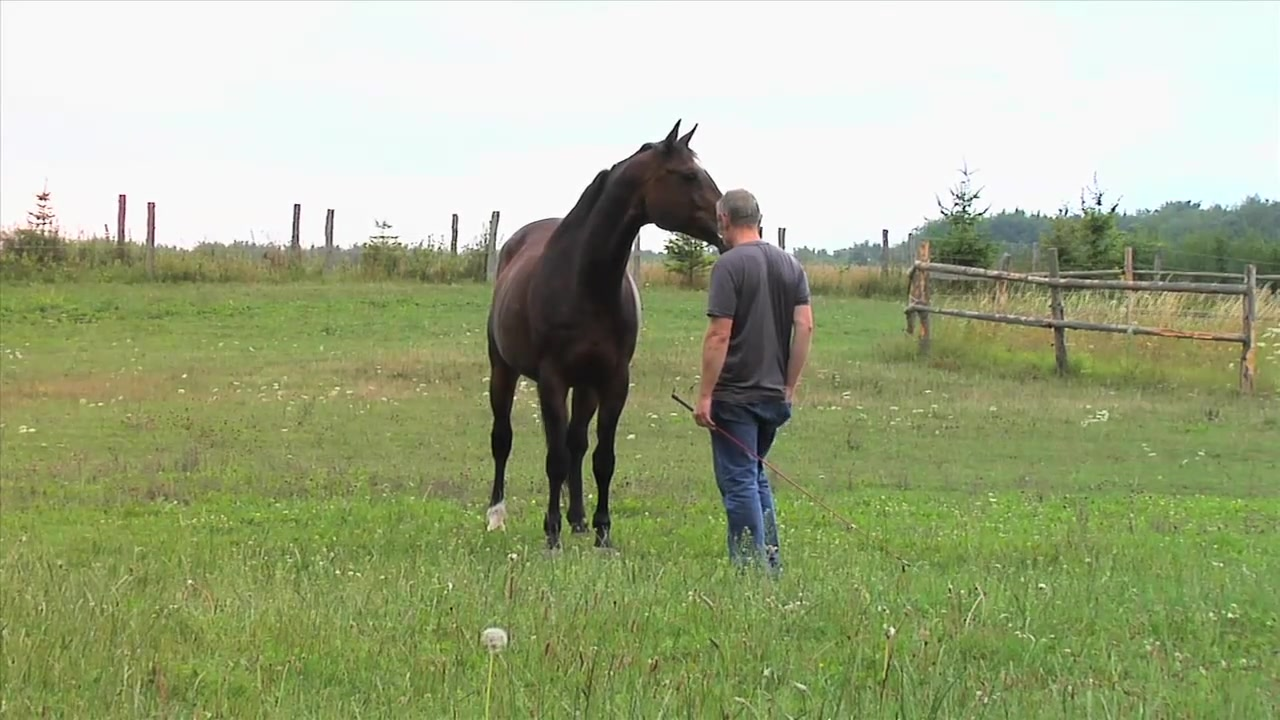horse: (486, 117, 716, 552)
